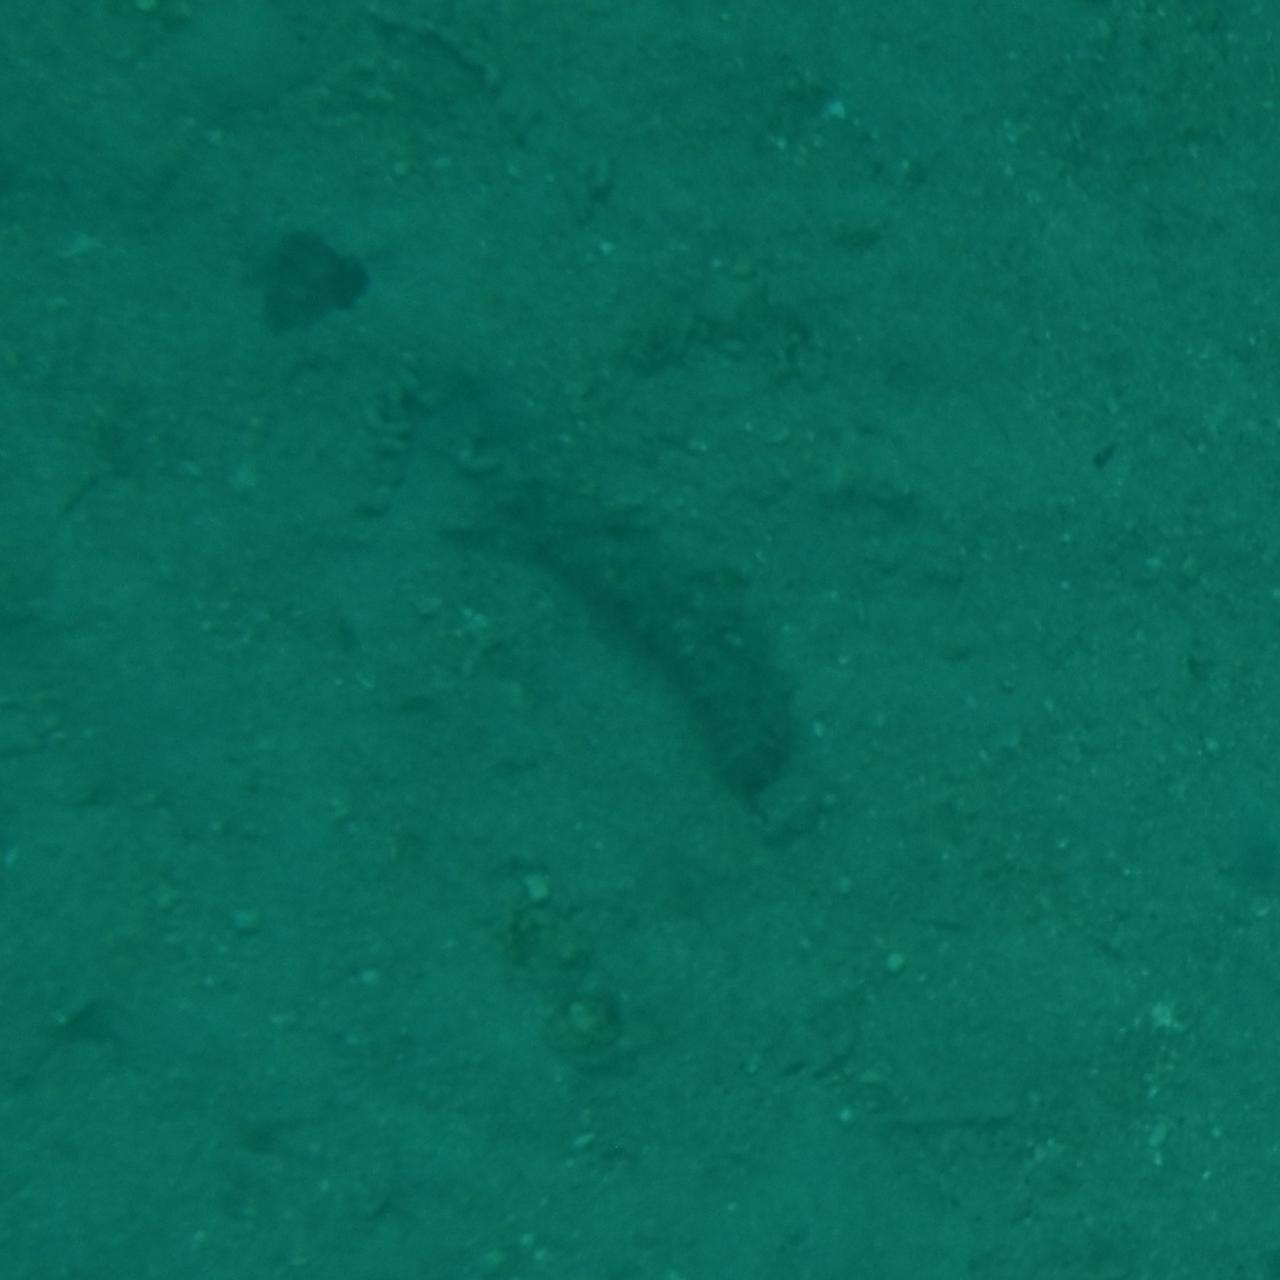Holothuria tubulosa: (472, 477, 808, 803)
